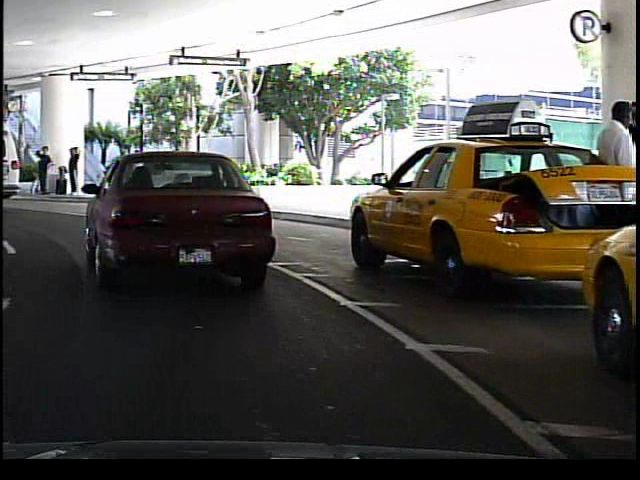person: (581, 100, 633, 263), (120, 144, 150, 201), (30, 141, 52, 200), (61, 142, 80, 199)
